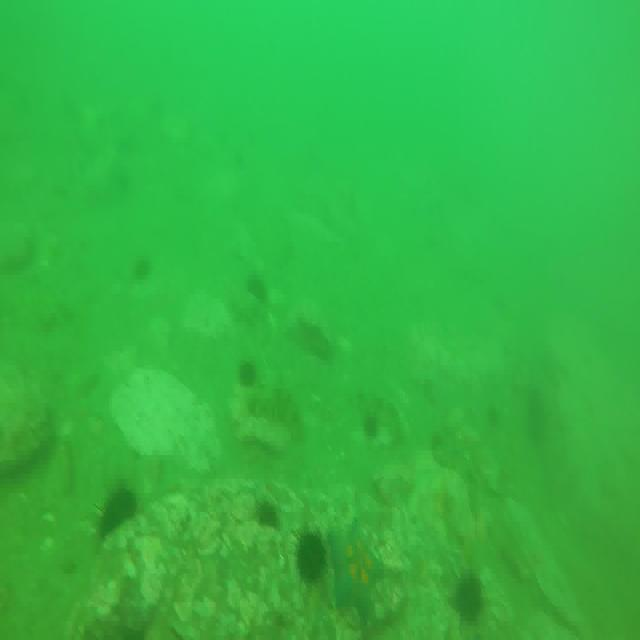echinus: (98, 481, 136, 542), (448, 569, 482, 629), (294, 526, 324, 586), (253, 494, 280, 545), (239, 354, 261, 392)
starfish: (330, 515, 385, 633)
